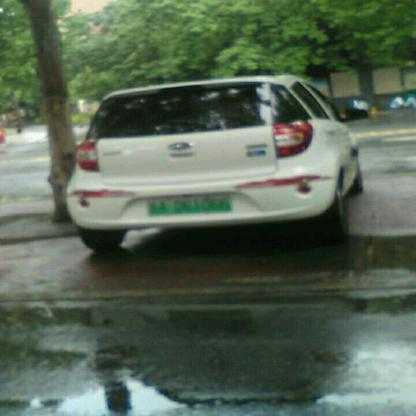lp: (147, 195, 231, 215)
